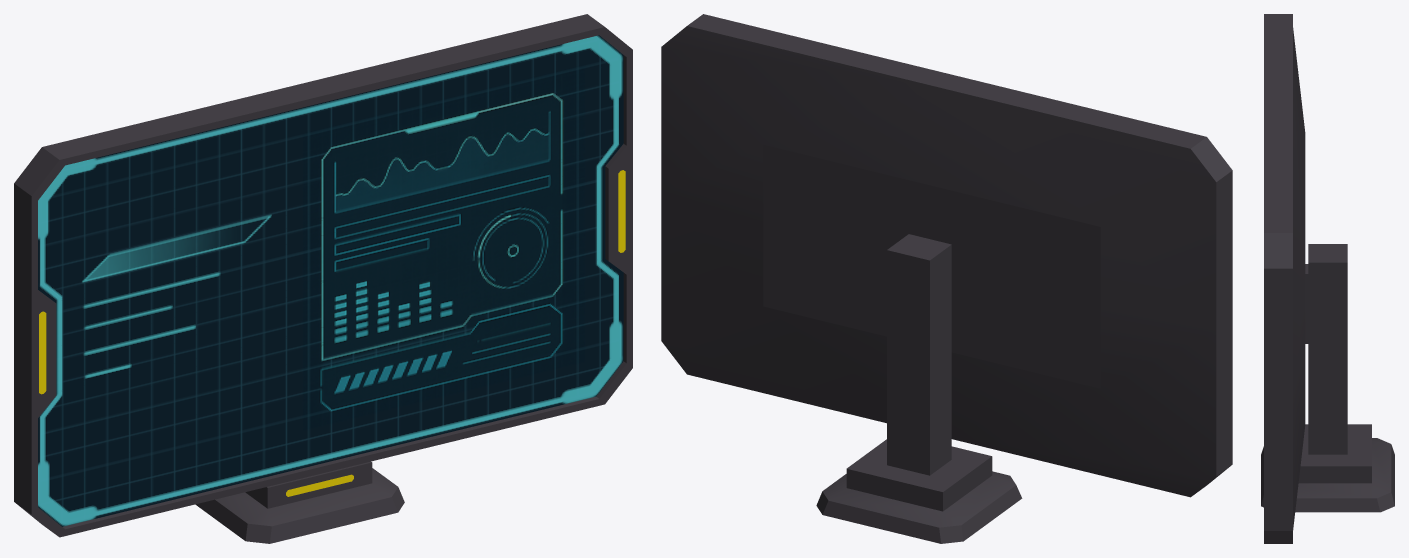
Rendered from SM_Props_Device_01.fbx.
3 views of the same model, side by side, from view 1: azimuth 30°, elevation 25°; view 2: azimuth 150°, elevation 25°; view 3: azimuth 270°, elevation 25° (orthographic). The views are drawn at different scales.
Parts seen in each view (by area): view 1: SM_Props_Device_01; view 2: SM_Props_Device_01; view 3: SM_Props_Device_01.
Boxes of the visible parts, box(x1,y1,x2,y2) form: SM_Props_Device_01: box(14, 14, 632, 543); SM_Props_Device_01: box(661, 14, 1232, 543); SM_Props_Device_01: box(1261, 14, 1394, 543).
Size of the model in its own units: 0.7564 by 0.5212 by 0.1772.
